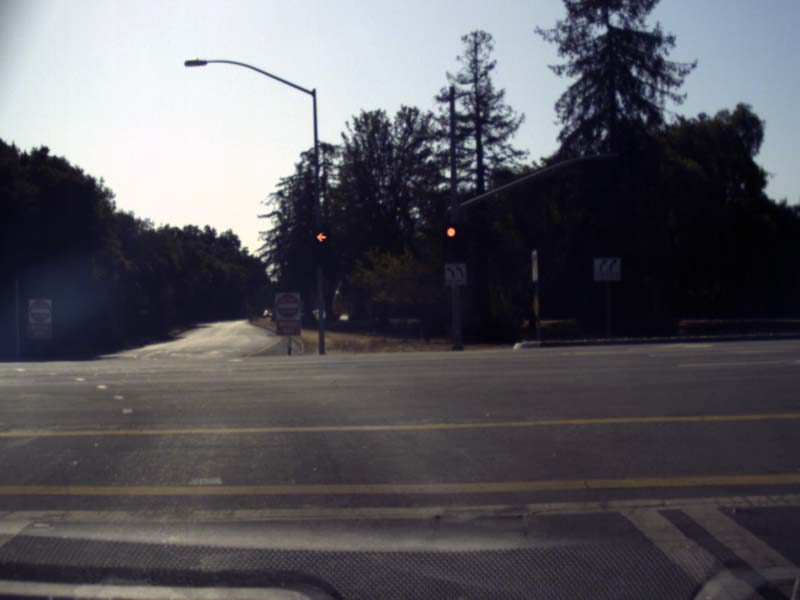Red: (310, 227, 333, 267), (441, 223, 460, 261)
